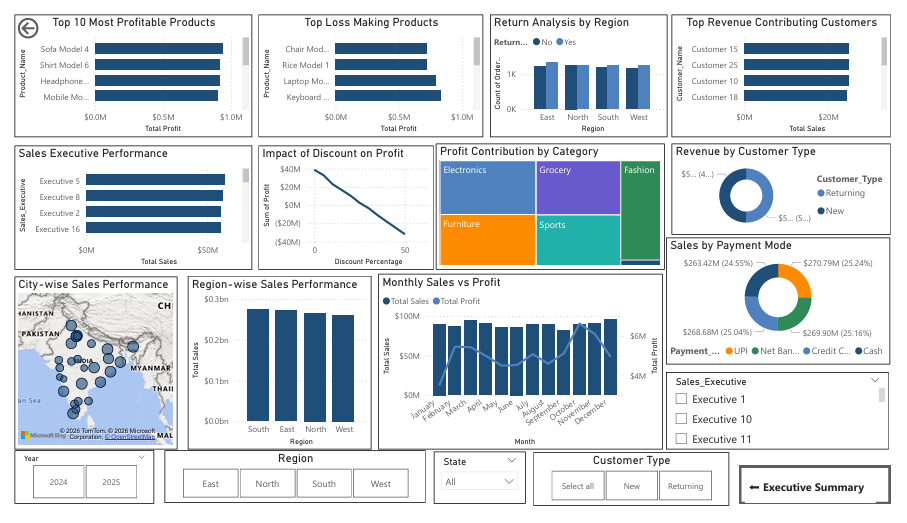

Layout of this report page (visuals, bound fields, positions):
{"tool":"powerbi","page":{"name":"Detailed Analysis ","canvas":[1280,720],"ordinal":2},"visuals":[{"type":"clusteredBarChart","title":"Top 10 Most Profitable Products","fields":{"Y":["Measures_Values.Total Profit"],"Category":["Business Intelligence Case Study Dataset.Product_Name"]},"box":[0,0,347.1,179.4],"z":0},{"type":"clusteredBarChart","title":"Top Loss Making Products","fields":{"Y":["Measures_Values.Total Profit"],"Category":["Business Intelligence Case Study Dataset.Product_Name"]},"box":[355.9,0,327.9,179.4],"z":1000},{"type":"clusteredBarChart","title":"Top Revenue Contributing Customers","fields":{"Y":["Measures_Values.Total Sales"],"Category":["Business Intelligence Case Study Dataset.Customer_Name"]},"box":[958.8,0,320.6,179.4],"z":2000},{"type":"lineChart","title":"Impact of Discount on Profit","fields":{"Y":["Sum(Business Intelligence Case Study Dataset.Profit)"],"Category":["Business Intelligence Case Study Dataset.Discount Percentage"]},"box":[355.9,191.2,255.9,180.9],"z":3000},{"type":"clusteredBarChart","title":"Sales Executive Performance","fields":{"Category":["Business Intelligence Case Study Dataset.Sales_Executive"],"Y":["Measures_Values.Total Sales"]},"box":[0,191.2,347.1,180.9],"z":4000},{"type":"map","title":"City-wise Sales Performance","fields":{"Category":["Business Intelligence Case Study Dataset.City"],"Size":["Measures_Values.Total Sales"]},"box":[0,382.4,238.2,251.5],"z":5000},{"type":"treemap","title":"Profit Contribution by Category","fields":{"Group":["Business Intelligence Case Study Dataset.Category"],"Values":["Measures_Values.Total Profit"]},"box":[614.7,188.2,333.8,183.8],"z":6000},{"type":"donutChart","title":"Revenue by Customer Type","fields":{"Category":["Business Intelligence Case Study Dataset.Customer_Type"],"Y":["Measures_Values.Total Sales"]},"box":[958.8,188.2,320.6,132.4],"z":7000},{"type":"donutChart","title":"Sales by Payment Mode","fields":{"Category":["Business Intelligence Case Study Dataset.Payment_Mode"],"Y":["Measures_Values.Total Sales"]},"box":[951.5,325,326.5,185.3],"z":8000},{"type":"clusteredColumnChart","title":"Region-wise Sales Performance","fields":{"Category":["Business Intelligence Case Study Dataset.Region"],"Y":["Measures_Values.Total Sales"]},"box":[252.9,380.9,267.6,252.9],"z":9000},{"type":"lineStackedColumnComboChart","title":"Monthly Sales vs Profit","fields":{"Category":["Date Table.Month"],"Y":["Measures_Values.Total Sales"],"Y2":["Measures_Values.Total Profit"]},"box":[530.9,377.9,414.7,255.9],"z":10000},{"type":"clusteredColumnChart","title":"Return Analysis by Region","fields":{"Category":["Business Intelligence Case Study Dataset.Region"],"Series":["Business Intelligence Case Study Dataset.Returned"],"Y":["CountNonNull(Business Intelligence Case Study Dataset.Order_ID)"]},"box":[694.1,0,258.8,179.4],"z":11000},{"type":"actionButton","box":[1057.8,657.8,220,55.6],"z":12000},{"type":"textbox","box":[1066.7,673.3,191.1,37.8],"z":13000},{"type":"actionButton","box":[0,0,47.1,39.7],"z":14000},{"type":"slicer","fields":{"Values":["Date Table.Year"]},"box":[0,635.3,204.4,77.9],"z":15000},{"type":"slicer","title":"Region ","fields":{"Values":["Business Intelligence Case Study Dataset.Region"]},"box":[219.1,635.3,380.9,76.5],"z":16000},{"type":"slicer","fields":{"Values":["Business Intelligence Case Study Dataset.State"]},"box":[611.8,636.8,133.8,76.5],"z":17000},{"type":"slicer","title":"Customer Type","fields":{"Values":["Business Intelligence Case Study Dataset.Customer_Type"]},"box":[757.4,638.2,285.3,77.9],"z":18000},{"type":"slicer","fields":{"Values":["Business Intelligence Case Study Dataset.Sales_Executive"]},"box":[951.5,520.6,325,113.2],"z":19000}]}

Visuals, with their boxes in screenshot pixels (x1, y1, x2, y2), scaled from the page's 1280x720 canvas onto the 907x523 screenshot:
"Top 10 Most Profitable Products" clusteredBarChart: <region>0, 0, 246, 130</region>
"Top Loss Making Products" clusteredBarChart: <region>252, 0, 485, 130</region>
"Top Revenue Contributing Customers" clusteredBarChart: <region>679, 0, 906, 130</region>
"Impact of Discount on Profit" lineChart: <region>252, 139, 434, 270</region>
"Sales Executive Performance" clusteredBarChart: <region>0, 139, 246, 270</region>
"City-wise Sales Performance" map: <region>0, 278, 169, 460</region>
"Profit Contribution by Category" treemap: <region>436, 137, 672, 270</region>
"Revenue by Customer Type" donutChart: <region>679, 137, 906, 233</region>
"Sales by Payment Mode" donutChart: <region>674, 236, 906, 371</region>
"Region-wise Sales Performance" clusteredColumnChart: <region>179, 277, 369, 460</region>
"Monthly Sales vs Profit" lineStackedColumnComboChart: <region>376, 275, 670, 460</region>
"Return Analysis by Region" clusteredColumnChart: <region>492, 0, 675, 130</region>
actionButton: <region>750, 478, 905, 518</region>
textbox: <region>756, 489, 891, 517</region>
actionButton: <region>0, 0, 33, 29</region>
slicer - Date Table.Year: <region>0, 461, 145, 518</region>
"Region " slicer: <region>155, 461, 425, 517</region>
slicer - Business Intelligence Case Study Dataset.State: <region>434, 463, 528, 518</region>
"Customer Type" slicer: <region>537, 464, 739, 520</region>
slicer - Business Intelligence Case Study Dataset.Sales_Executive: <region>674, 378, 905, 460</region>
